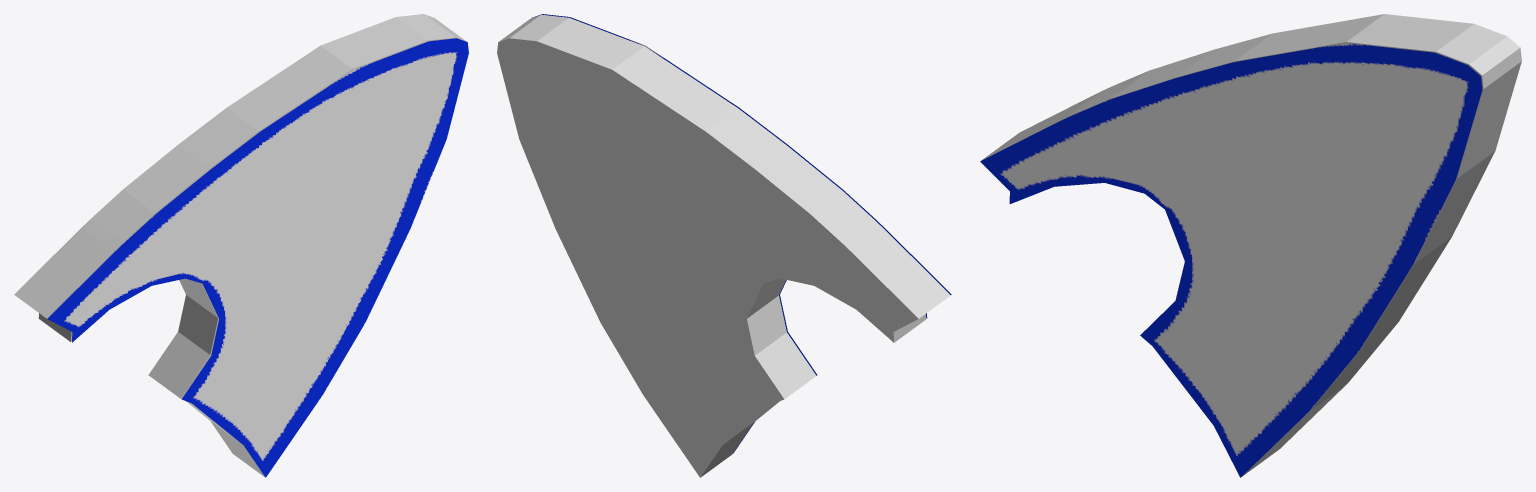
The picture shows the model from 3 angles, left to right: view 1: azimuth 30°, elevation 25°; view 2: azimuth 150°, elevation 25°; view 3: azimuth 330°, elevation 25°; orthographic projection. The views are drawn at different scales.
Parts seen in each view (by area): view 1: In_2_1, In_2_0; view 2: In_2_0, In_2_1; view 3: In_2_1, In_2_0.
Boxes of the visible parts, x1,y1,x2,y2 form: In_2_1: [47, 38, 468, 477]; In_2_0: [14, 14, 466, 476]; In_2_0: [497, 14, 950, 477]; In_2_1: [531, 14, 951, 453]; In_2_1: [980, 43, 1482, 477]; In_2_0: [981, 14, 1521, 476].
Size of the model in its own units: 3.78 by 3.4 by 0.515.
2 materials, 1 textured.
